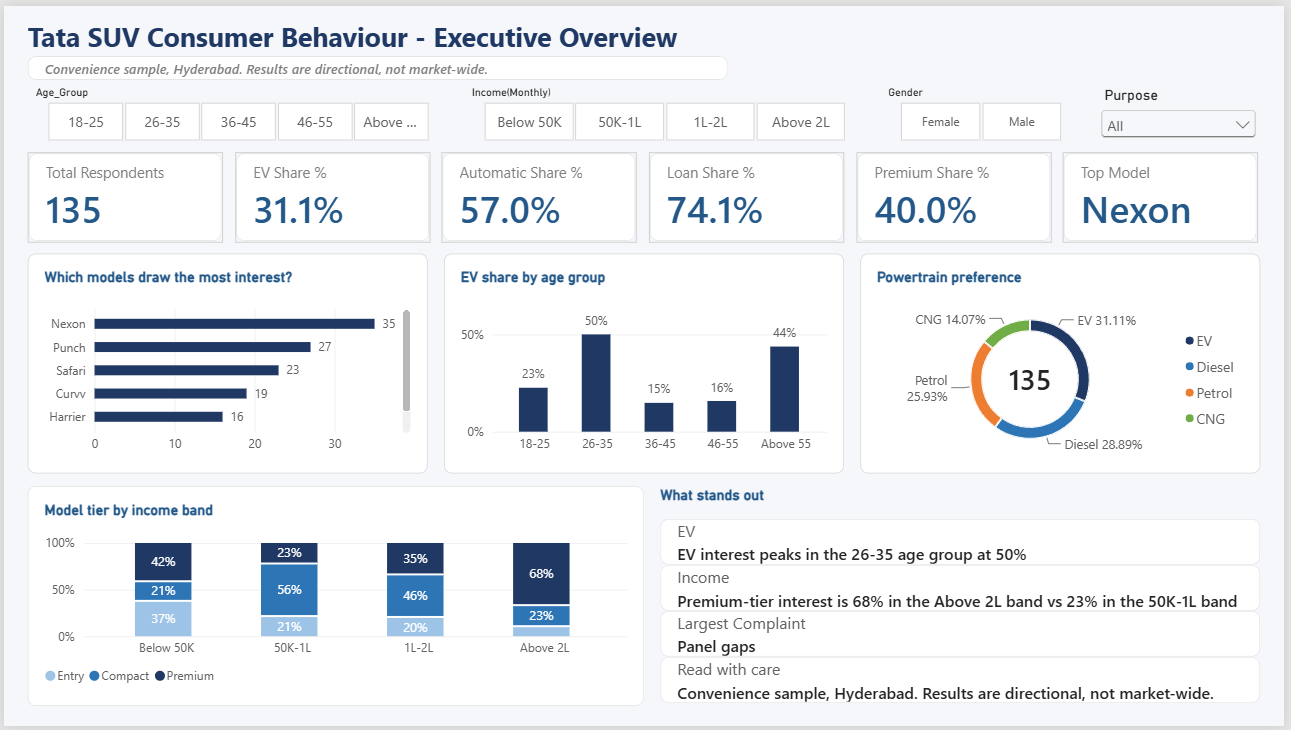

What the dashboard file says about the page in this screenshot:
{"tool":"powerbi","page":{"name":"Executive Overview","canvas":[1280,720],"ordinal":0},"visuals":[{"type":"textbox","box":[24,12,900,36],"z":0},{"type":"cardVisual","fields":{"Data":["_Measures.Sample Note"]},"box":[24,50,700,24],"z":1000},{"type":"slicer","fields":{"Values":["Survey.Age_Group"]},"box":[24,80,420,56],"z":2000},{"type":"slicer","fields":{"Values":["Survey.Income_Band"]},"box":[460,80,400,56],"z":3000},{"type":"slicer","fields":{"Values":["Survey.Gender"]},"box":[876,80,200,56],"z":4000},{"type":"slicer","fields":{"Values":["Survey.Purpose"]},"box":[1092,80,164,56],"z":5000},{"type":"cardVisual","fields":{"Data":["_Measures.Total Respondents"]},"box":[24,146,195,90],"z":6000},{"type":"cardVisual","fields":{"Data":["_Measures.EV Share %"]},"box":[231,146.8,195,90],"z":7000},{"type":"cardVisual","fields":{"Data":["_Measures.Automatic Share %"]},"box":[438,146.8,195,90],"z":8000},{"type":"cardVisual","fields":{"Data":["_Measures.Loan Share %"]},"box":[645,146,195,90],"z":9000},{"type":"cardVisual","fields":{"Data":["_Measures.Premium Share %"]},"box":[852,146,195,90],"z":10000},{"type":"cardVisual","fields":{"Data":["_Measures.Top Model"]},"box":[1059,146,195,90],"z":11000},{"type":"clusteredBarChart","title":"Which models draw the most interest?","fields":{"Category":["Survey.Model_Interest"],"Y":["_Measures.Total Respondents"]},"box":[24,248,400,220],"z":12000},{"type":"clusteredColumnChart","title":"EV share by age group","fields":{"Category":["Survey.Age_Group"],"Y":["_Measures.EV Share %"]},"box":[440,248,400,220],"z":13000},{"type":"donutChart","title":"Powertrain preference","fields":{"Category":["Survey.Powertrain"],"Y":["_Measures.Total Respondents"]},"box":[856,248,400,220],"z":14000},{"type":"hundredPercentStackedColumnChart","title":"Model tier by income band","fields":{"Category":["Survey.Income_Band"],"Series":["Survey.model_tier"],"Y":["_Measures.Total Respondents"]},"box":[24,480,616,220],"z":15000},{"type":"cardVisual","title":"What stands out","fields":{"Data":["_Measures.EV Peak Text","_Measures.Premium Income Text","_Measures.Top Complaint","_Measures.Sample Note"]},"box":[656,480,600,220],"z":16000}]}

Visuals, with their boxes in screenshot pixels (x1, y1, x2, y2), scaled from the page's 1280x720 canvas onto the 1291x730 screenshot:
textbox: bbox(24, 12, 932, 49)
cardVisual - _Measures.Sample Note: bbox(24, 51, 730, 75)
slicer - Survey.Age_Group: bbox(24, 81, 448, 138)
slicer - Survey.Income_Band: bbox(464, 81, 867, 138)
slicer - Survey.Gender: bbox(884, 81, 1085, 138)
slicer - Survey.Purpose: bbox(1101, 81, 1267, 138)
cardVisual - _Measures.Total Respondents: bbox(24, 148, 221, 239)
cardVisual - _Measures.EV Share %: bbox(233, 149, 430, 240)
cardVisual - _Measures.Automatic Share %: bbox(442, 149, 638, 240)
cardVisual - _Measures.Loan Share %: bbox(651, 148, 847, 239)
cardVisual - _Measures.Premium Share %: bbox(859, 148, 1056, 239)
cardVisual - _Measures.Top Model: bbox(1068, 148, 1265, 239)
"Which models draw the most interest?" clusteredBarChart: bbox(24, 251, 428, 474)
"EV share by age group" clusteredColumnChart: bbox(444, 251, 847, 474)
"Powertrain preference" donutChart: bbox(863, 251, 1267, 474)
"Model tier by income band" hundredPercentStackedColumnChart: bbox(24, 487, 646, 710)
"What stands out" cardVisual: bbox(662, 487, 1267, 710)
